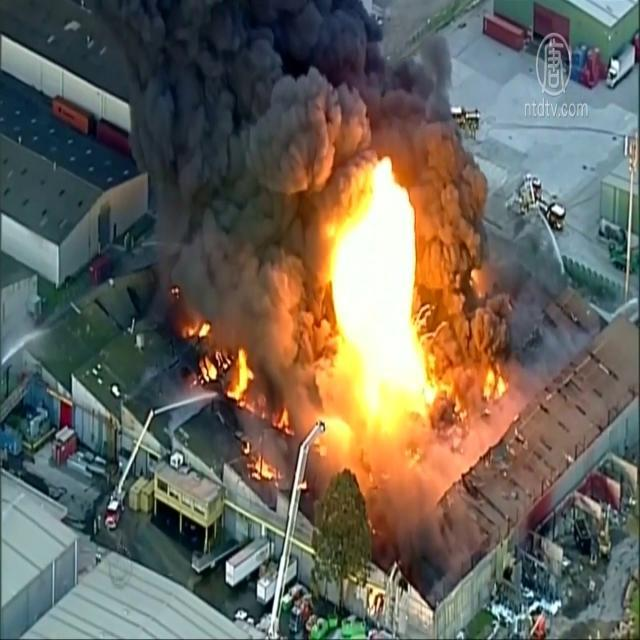Fire: (331, 157, 427, 434)
Smoke: (100, 0, 510, 383)
